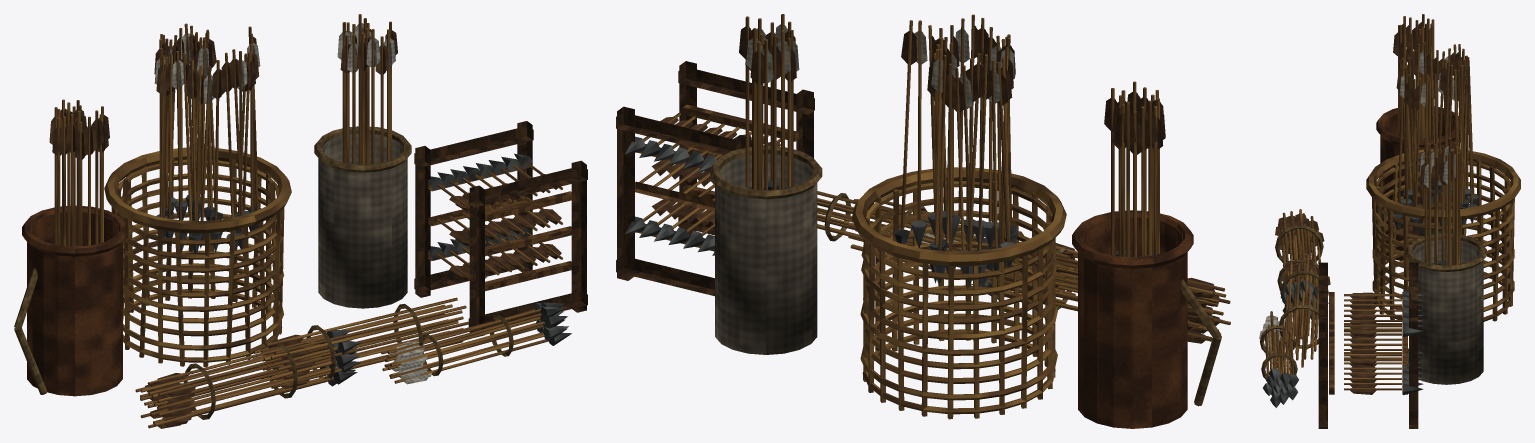
The model's file is medieval_fletcher_station_3d_runtime.glb.
3 renders of one model, left to right at view 1: azimuth 30°, elevation 25°; view 2: azimuth 150°, elevation 25°; view 3: azimuth 270°, elevation 25°, orthographic. The views are drawn at different scales.
Visible parts, largest first — view 1: FLETCHER_SHAFT_BATCH, FLETCHER_WICKER_BATCH, FLETCHER_LEATHER_BATCH, FLETCHER_CANVAS_DARK_BATCH, FLETCHER_WOOD_DARK_BATCH, FLETCHER_FEATHER_BROWN_BATCH, FLETCHER_STEEL_BATCH, FLETCHER_ROPE_BATCH, FLETCHER_WOOD_MID_BATCH, FLETCHER_FEATHER_WHITE_BATCH; view 2: FLETCHER_WICKER_BATCH, FLETCHER_SHAFT_BATCH, FLETCHER_LEATHER_BATCH, FLETCHER_CANVAS_DARK_BATCH, FLETCHER_WOOD_DARK_BATCH, FLETCHER_FEATHER_BROWN_BATCH, FLETCHER_STEEL_BATCH, FLETCHER_ROPE_BATCH, FLETCHER_FEATHER_WHITE_BATCH, FLETCHER_WOOD_MID_BATCH; view 3: FLETCHER_SHAFT_BATCH, FLETCHER_WICKER_BATCH, FLETCHER_CANVAS_DARK_BATCH, FLETCHER_FEATHER_BROWN_BATCH, FLETCHER_STEEL_BATCH, FLETCHER_WOOD_DARK_BATCH, FLETCHER_ROPE_BATCH, FLETCHER_LEATHER_BATCH, FLETCHER_FEATHER_WHITE_BATCH, FLETCHER_WOOD_MID_BATCH.
Boxes of the visible parts, x1,y1,x2,y2 form: FLETCHER_SHAFT_BATCH: (54, 14, 562, 428); FLETCHER_WICKER_BATCH: (104, 147, 291, 366); FLETCHER_LEATHER_BATCH: (22, 205, 127, 396); FLETCHER_CANVAS_DARK_BATCH: (318, 133, 407, 308); FLETCHER_WOOD_DARK_BATCH: (414, 121, 587, 337); FLETCHER_FEATHER_BROWN_BATCH: (49, 28, 561, 428); FLETCHER_STEEL_BATCH: (73, 153, 571, 386); FLETCHER_ROPE_BATCH: (14, 126, 513, 419); FLETCHER_WOOD_MID_BATCH: (428, 160, 571, 291); FLETCHER_FEATHER_WHITE_BATCH: (154, 23, 431, 384); FLETCHER_WICKER_BATCH: (851, 167, 1066, 419); FLETCHER_SHAFT_BATCH: (639, 14, 1230, 341); FLETCHER_LEATHER_BATCH: (1072, 210, 1193, 428); FLETCHER_CANVAS_DARK_BATCH: (715, 154, 817, 354); FLETCHER_WOOD_DARK_BATCH: (616, 61, 814, 296); FLETCHER_FEATHER_BROWN_BATCH: (651, 25, 1219, 343); FLETCHER_STEEL_BATCH: (625, 136, 1153, 299); FLETCHER_ROPE_BATCH: (710, 146, 1221, 406); FLETCHER_FEATHER_WHITE_BATCH: (746, 24, 1014, 249); FLETCHER_WOOD_MID_BATCH: (635, 104, 798, 251); FLETCHER_SHAFT_BATCH: (1265, 14, 1474, 390); FLETCHER_WICKER_BATCH: (1366, 148, 1520, 321); FLETCHER_CANVAS_DARK_BATCH: (1409, 239, 1483, 384); FLETCHER_FEATHER_BROWN_BATCH: (1275, 22, 1467, 394); FLETCHER_STEEL_BATCH: (1263, 136, 1478, 407); FLETCHER_WOOD_DARK_BATCH: (1318, 262, 1418, 428); FLETCHER_ROPE_BATCH: (1260, 225, 1486, 379); FLETCHER_LEATHER_BATCH: (1376, 106, 1459, 260); FLETCHER_FEATHER_WHITE_BATCH: (1259, 50, 1466, 352); FLETCHER_WOOD_MID_BATCH: (1329, 292, 1407, 394).
Bounding box in the file's own units: 5.31 × 2.94 × 2.79.
10 materials, 10 textured.
